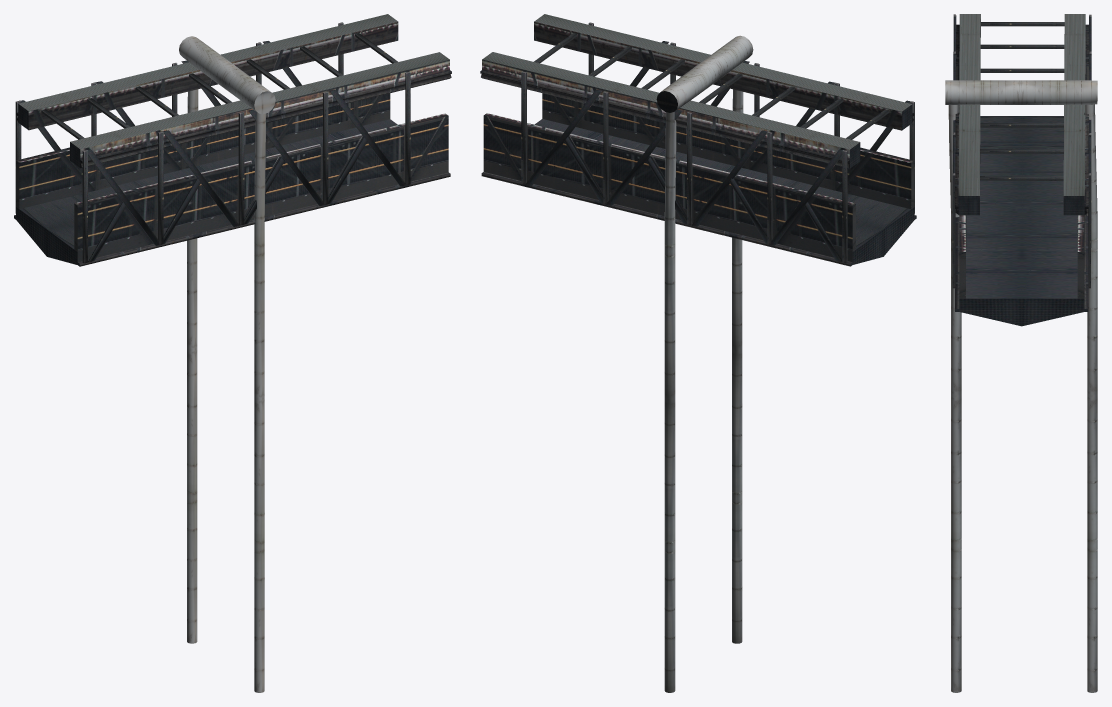
The model's file is industrial5.obj.
The picture shows the model from 3 angles, left to right: view 1: azimuth 30°, elevation 25°; view 2: azimuth 150°, elevation 25°; view 3: azimuth 270°, elevation 25°; orthographic projection.
Parts seen in each view (by area): view 1: indsutrial1; view 2: indsutrial1; view 3: indsutrial1.
Part boxes in pixels (x1,y1,x2,y2): indsutrial1: (14,14,451,692); indsutrial1: (480,14,916,692); indsutrial1: (945,14,1097,692).
Bounding box in the file's own units: 246 × 381 × 86.4.
Materials: 1 (1 with a texture image).
